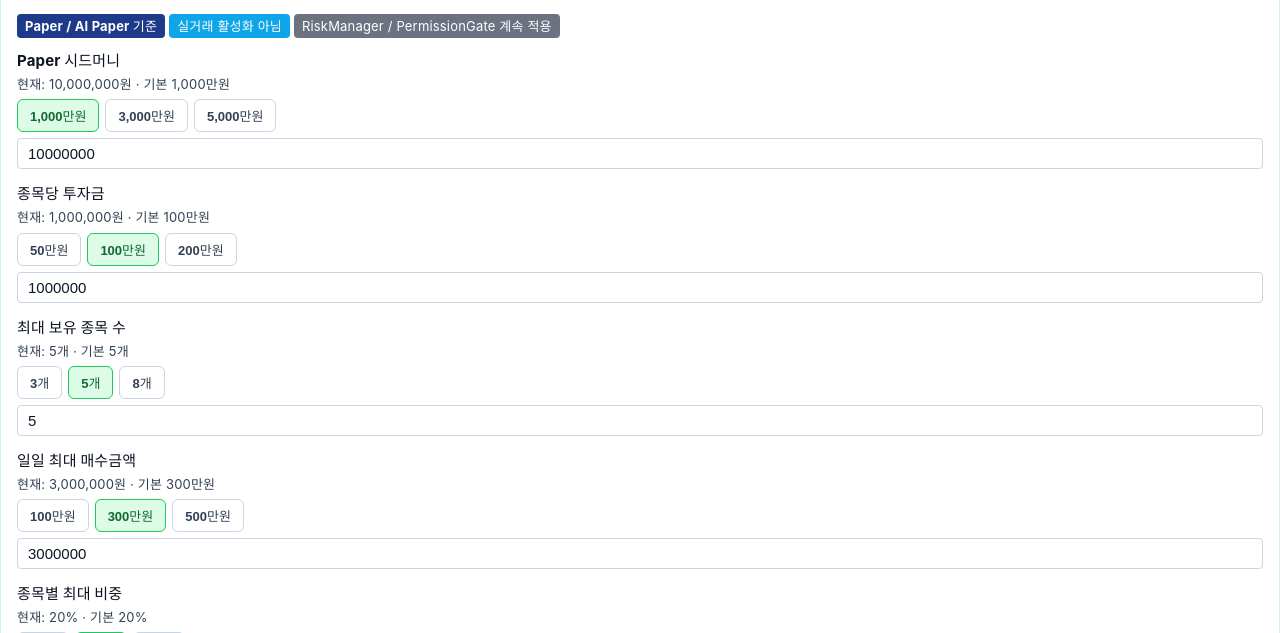
it: <PaperCapitalSettingsCard> › 종목당 투자금 > 시드머니 오류
Note: 시드머니를 1,000,000 으로 낮춘 뒤 종목당 2,000,000 → error.
Replace the text in the number field with test id "input-total-paper-capital" with "1000000" at coordinates (640, 154), box [17,138,1263,169]
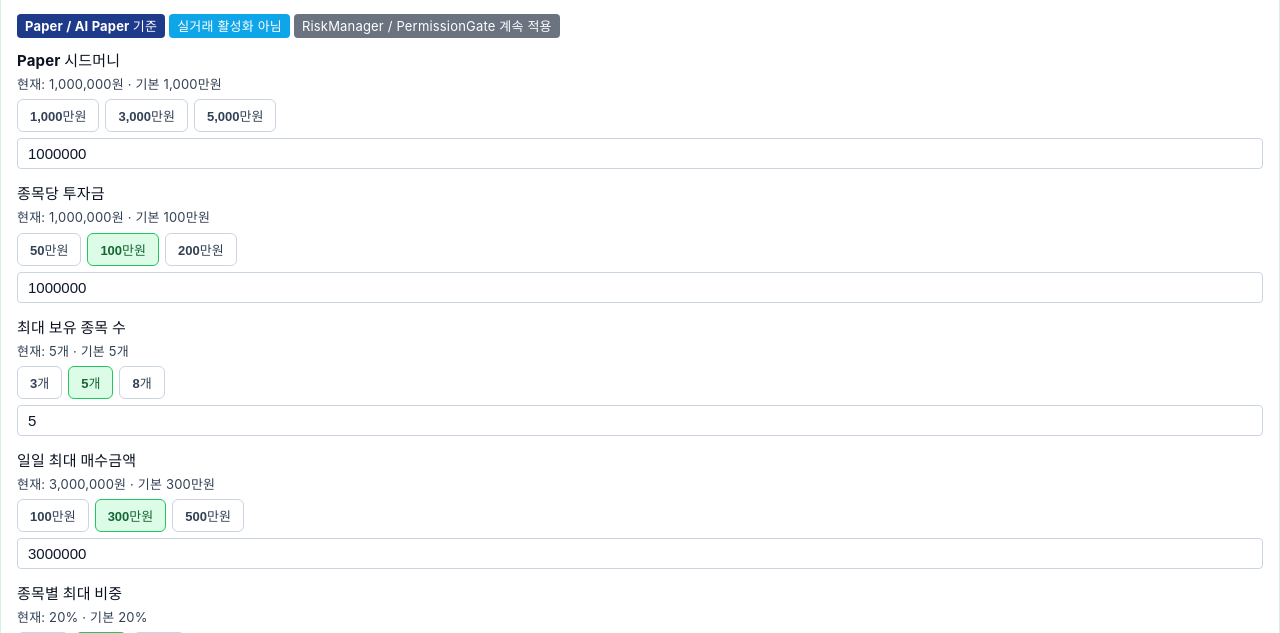
Replace the text in the number field with test id "input-per-symbol-allocation" with "2000000" at coordinates (640, 287), box [17,272,1263,302]
(page scrolled)
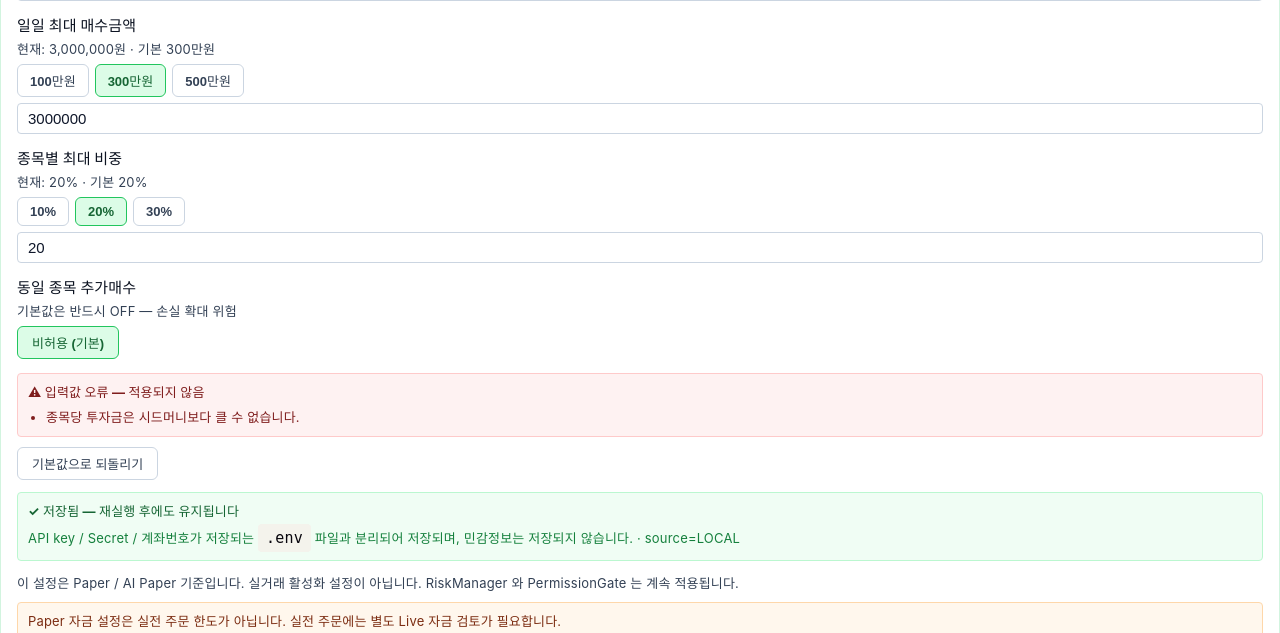
Now the element with test id "paper-capital-settings-errors" shows "시드머니", box [46,409,300,425]
